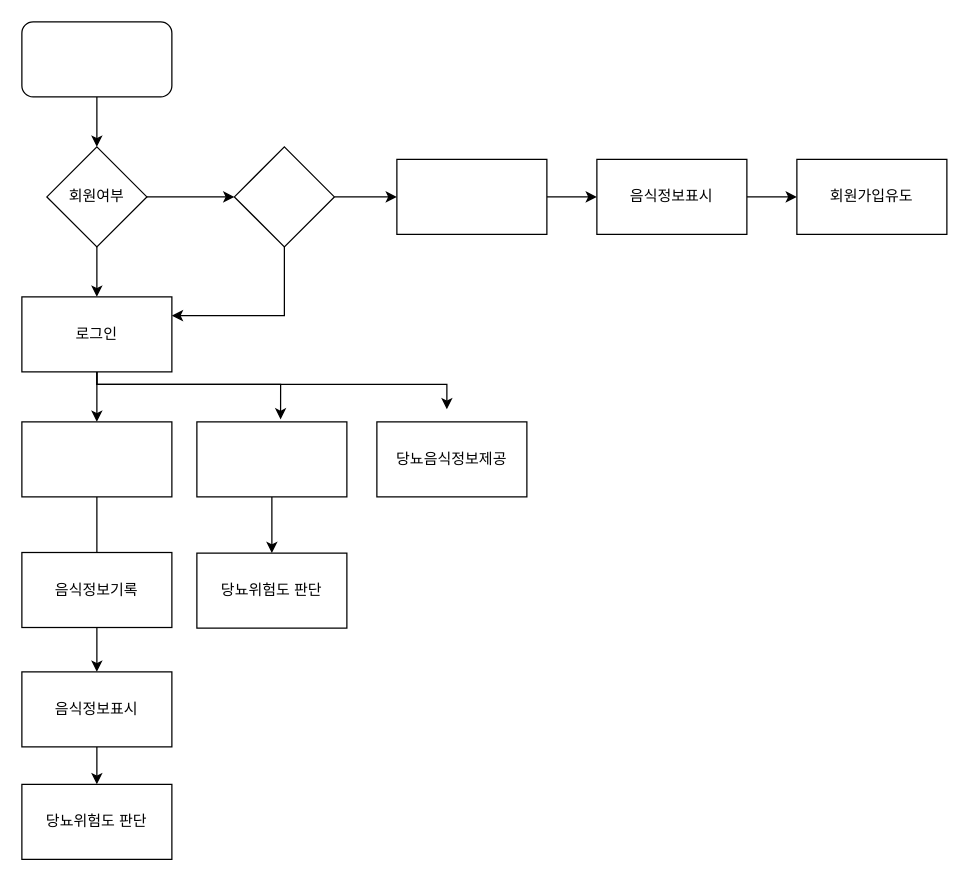
Some shapes in this 969 by 881 pixel diagram are drawn without their labels. Each missing label, with the centre of its shape:
"시작" belongs at point (96, 59).
"음식검색" belongs at point (471, 196).
"음식검색하기" belongs at point (271, 459).
"음식사진찍기" belongs at point (96, 459).
"회원가입" belongs at point (283, 196).
